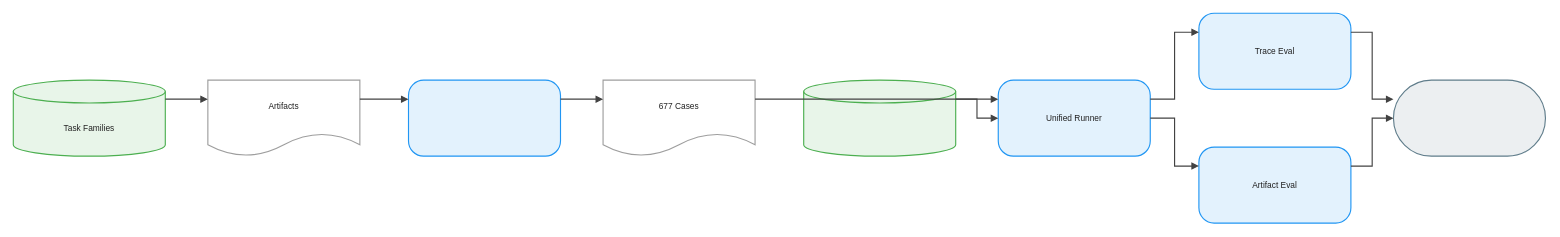
Some shapes in this 1560 by 237 pixel diagram are drawn without their labels. The centre of each missing label's shape, as x and y in pixels:
"30 Skills" goes at (x=879, y=117).
"Quality + Cost" goes at (x=1469, y=117).
"Task Specs" goes at (x=484, y=117).
